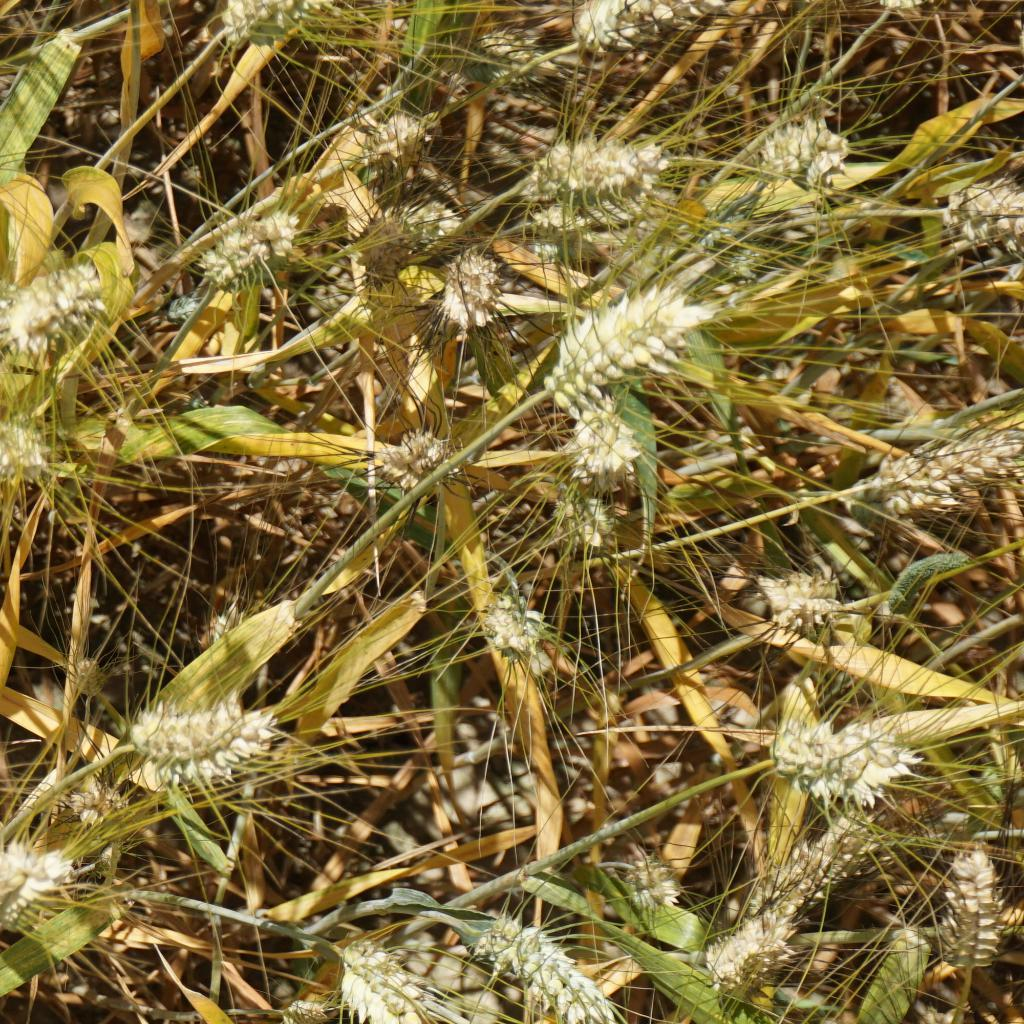0-0: (538, 273, 736, 421), (474, 909, 614, 1024), (750, 705, 903, 805), (128, 689, 267, 791), (525, 123, 661, 222), (872, 431, 1016, 521), (925, 835, 1002, 970), (52, 760, 145, 863), (356, 188, 468, 271), (682, 212, 796, 291), (693, 891, 789, 984), (753, 114, 861, 196), (328, 933, 425, 1024), (2, 267, 110, 346), (515, 201, 631, 274), (763, 815, 870, 893), (748, 563, 850, 642), (198, 202, 295, 281), (929, 179, 1024, 258), (0, 844, 74, 941), (360, 102, 454, 177), (451, 25, 547, 94), (374, 419, 466, 490), (563, 407, 646, 480), (580, 0, 685, 57), (0, 406, 65, 488), (488, 590, 561, 659), (433, 253, 502, 326), (618, 844, 677, 909), (68, 650, 113, 707)
